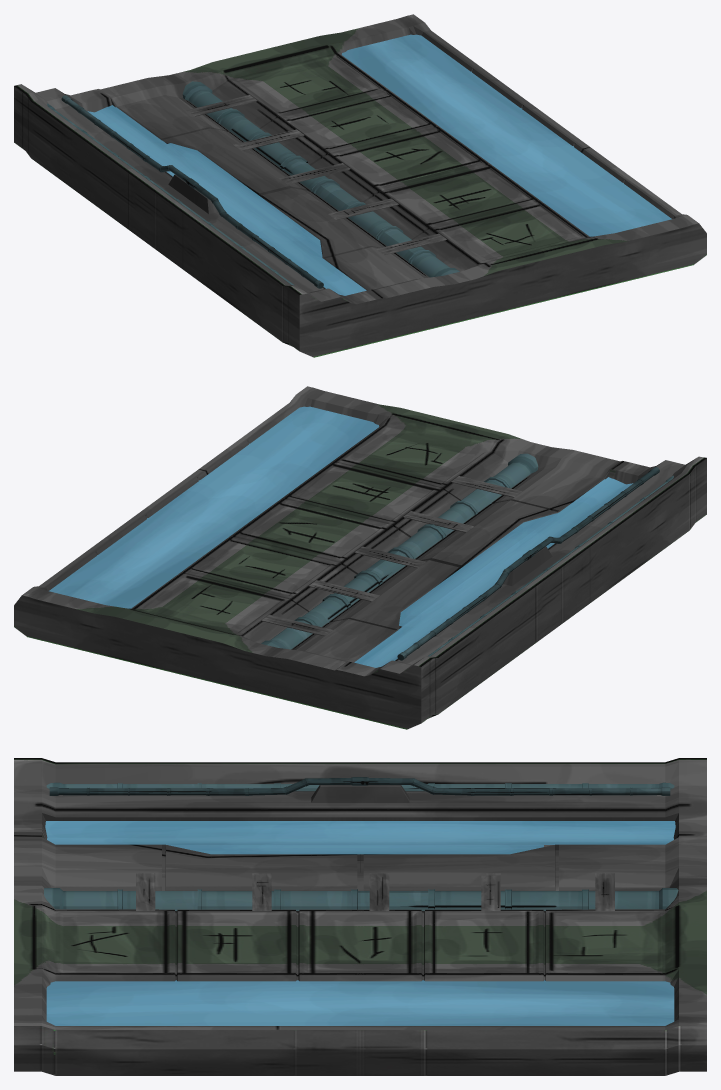
Rendered from FloorObject.FBX.
The picture shows the model from 3 angles, top to bottom: view 1: azimuth 30°, elevation 25°; view 2: azimuth 150°, elevation 25°; view 3: azimuth 270°, elevation 25°; orthographic projection. The views are drawn at different scales.
Visible parts, largest first — view 1: Plane004, Plane003, Plane002, Cylinder001, Box007, Cylinder003, Cylinder004; view 2: Plane004, Plane003, Plane002, Cylinder001, Box007, Cylinder003, Cylinder004; view 3: Plane004, Plane003, Plane002, Cylinder001, Cylinder003, Box007, Cylinder004.
Part boxes in pixels (<box>): Plane004: <box>14,14,706,357</box>; Plane003: <box>341,34,671,236</box>; Plane002: <box>87,105,366,295</box>; Cylinder001: <box>182,81,459,277</box>; Box007: <box>186,95,446,254</box>; Cylinder003: <box>61,95,323,288</box>; Cylinder004: <box>47,103,294,285</box>; Plane004: <box>14,386,706,729</box>; Plane003: <box>49,406,379,608</box>; Plane002: <box>354,477,633,667</box>; Cylinder001: <box>261,453,538,649</box>; Box007: <box>262,476,521,635</box>; Cylinder003: <box>397,467,659,660</box>; Cylinder004: <box>428,475,673,656</box>; Plane004: <box>14,758,706,1075</box>; Plane003: <box>46,980,674,1025</box>; Plane002: <box>45,821,675,854</box>; Cylinder001: <box>44,888,678,910</box>; Cylinder003: <box>49,777,670,795</box>; Box007: <box>136,873,614,910</box>; Cylinder004: <box>46,782,674,791</box>.
Size of the model in its own units: 93.16 by 113 by 15.52.
Materials: 6 (6 with a texture image).
